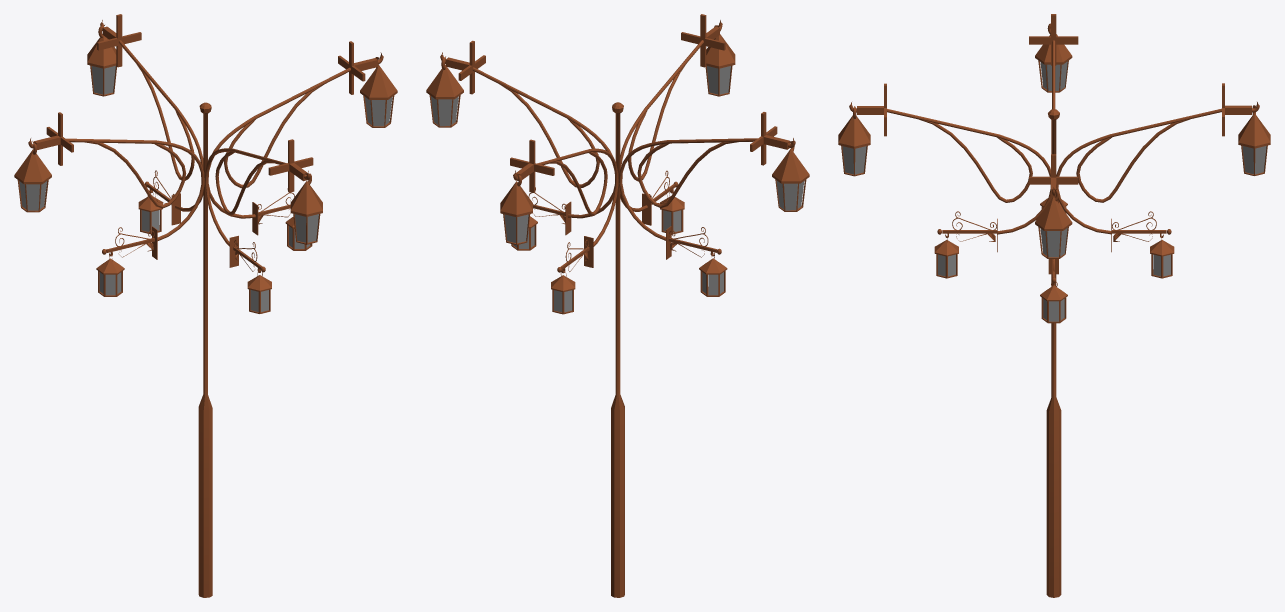
Rendered from ludeng3.FBX.
The picture shows the model from 3 angles, left to right: view 1: azimuth 30°, elevation 25°; view 2: azimuth 150°, elevation 25°; view 3: azimuth 270°, elevation 25°; orthographic projection.
Parts seen in each view (by area): view 1: y525, Acc_Light008, Acc_Light011, Acc_Light010, y526, Acc_Light009, y524, y527, Acc_Light014, Acc_Light003, Acc_Light012, Acc_Light013 (+4 smaller); view 2: y525, Acc_Light009, Acc_Light010, Acc_Light011, y526, Acc_Light008, y524, y527, Acc_Light014, Acc_Light012, Acc_Light003, Acc_Light013 (+4 smaller); view 3: y525, y527, Acc_Light010, Acc_Light009, Acc_Light008, Acc_Light011, Acc_Light012, Acc_Light003, Acc_Light013, 对象010.
Part boxes in pixels (left/top/right/bottom): y525: left=198, top=102, right=286, bottom=597; Acc_Light008: left=268, top=139, right=322, bottom=244; Acc_Light011: left=14, top=112, right=73, bottom=212; Acc_Light010: left=338, top=41, right=397, bottom=127; y526: left=66, top=138, right=204, bottom=240; Acc_Light009: left=87, top=14, right=141, bottom=96; y524: left=208, top=67, right=350, bottom=218; y527: left=118, top=40, right=203, bottom=211; Acc_Light014: left=96, top=226, right=157, bottom=296; Acc_Light003: left=229, top=235, right=271, bottom=313; Acc_Light012: left=138, top=170, right=180, bottom=234; Acc_Light013: left=252, top=188, right=312, bottom=250; y525: left=611, top=40, right=703, bottom=597; Acc_Light009: left=500, top=139, right=554, bottom=244; Acc_Light010: left=426, top=40, right=485, bottom=127; Acc_Light011: left=750, top=112, right=809, bottom=211; y526: left=619, top=138, right=757, bottom=240; Acc_Light008: left=681, top=14, right=735, bottom=96; y524: left=472, top=67, right=615, bottom=218; y527: left=537, top=148, right=618, bottom=246; Acc_Light014: left=666, top=226, right=727, bottom=296; Acc_Light012: left=551, top=236, right=593, bottom=314; Acc_Light003: left=642, top=170, right=684, bottom=234; Acc_Light013: left=511, top=187, right=571, bottom=250; y525: left=887, top=109, right=1061, bottom=597; y527: left=1056, top=108, right=1221, bottom=234; Acc_Light010: left=1029, top=154, right=1078, bottom=258; Acc_Light009: left=1222, top=83, right=1270, bottom=175; Acc_Light008: left=838, top=83, right=886, bottom=176; Acc_Light011: left=1029, top=14, right=1078, bottom=92; Acc_Light012: left=1111, top=211, right=1174, bottom=278; Acc_Light003: left=934, top=211, right=997, bottom=278; Acc_Light013: left=1040, top=259, right=1067, bottom=323; 对象010: left=1040, top=228, right=1067, bottom=257.
Size of the model in its own units: 6.35 by 8.39 by 6.44.
